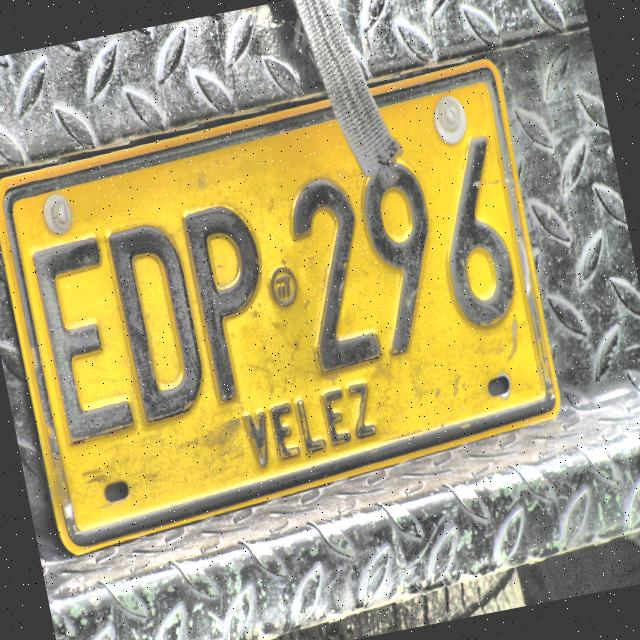plate: (0, 68, 559, 552)
